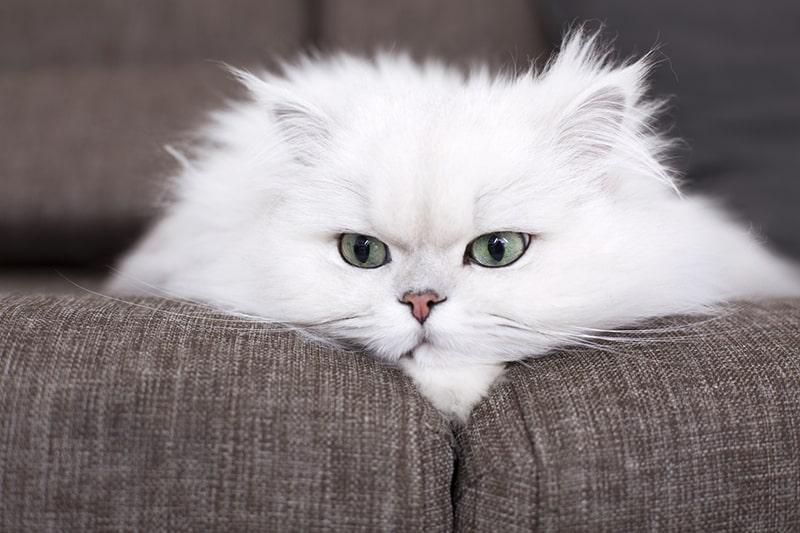Cat: (254, 72, 632, 325)
